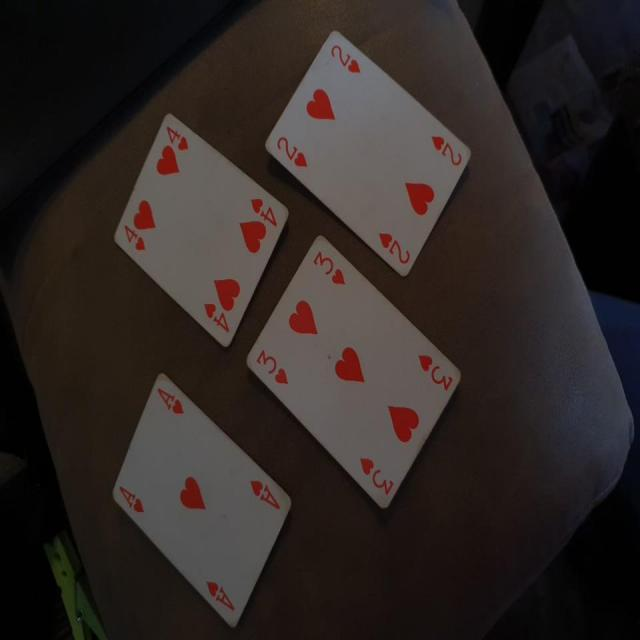2 Hearts: (256, 26, 476, 277)
3 Hearts: (243, 233, 466, 516)
4 Hearts: (96, 105, 291, 360)
A Hearts: (109, 370, 297, 613)
